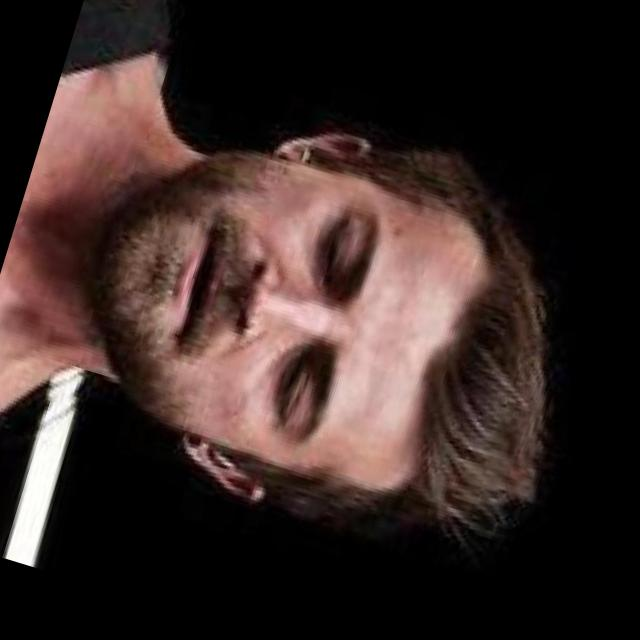bareface: (72, 110, 524, 504)
